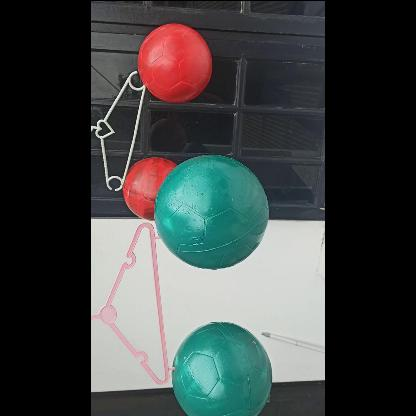red_ball: (136, 24, 212, 100)
